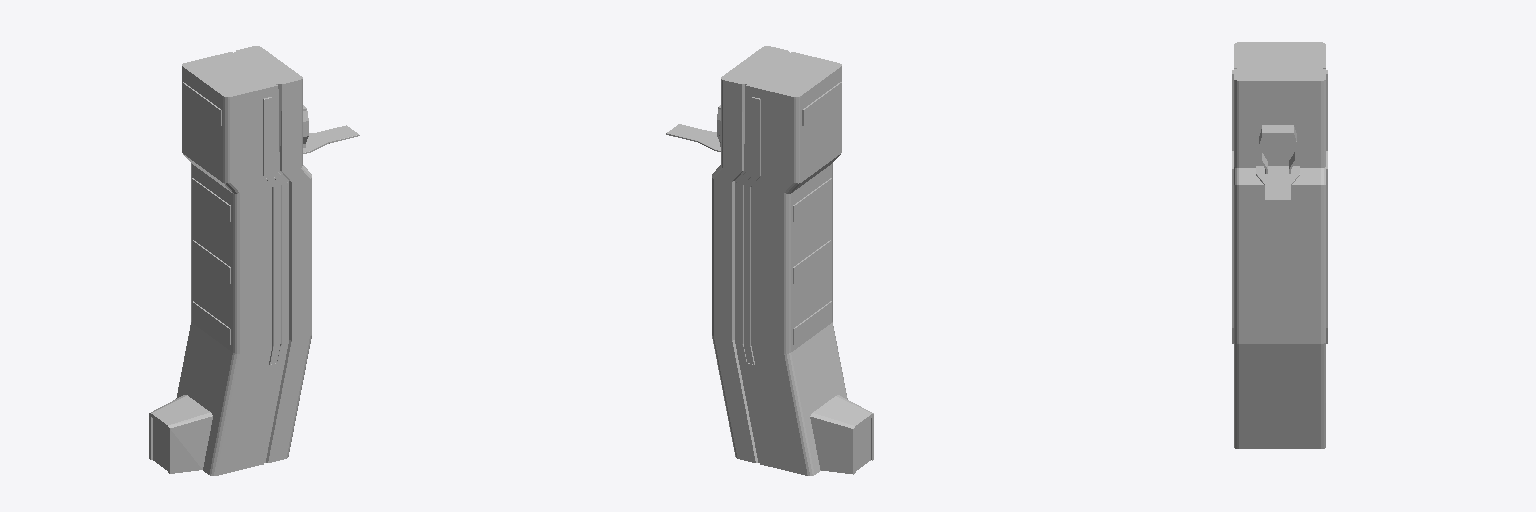
Rendered from Building_UV_0024.obj.
The picture shows the model from 3 angles: view 1: azimuth 30°, elevation 25°; view 2: azimuth 150°, elevation 25°; view 3: azimuth 270°, elevation 25°; orthographic projection.
Visible parts, largest first — view 1: Building_UV_00024; view 2: Building_UV_00024; view 3: Building_UV_00024.
Boxes of the visible parts, x1,y1,x2,y2 form: Building_UV_00024: [149, 46, 359, 475]; Building_UV_00024: [666, 46, 873, 475]; Building_UV_00024: [1232, 42, 1327, 448].
Size of the model in its own units: 1077 by 2008 by 470.